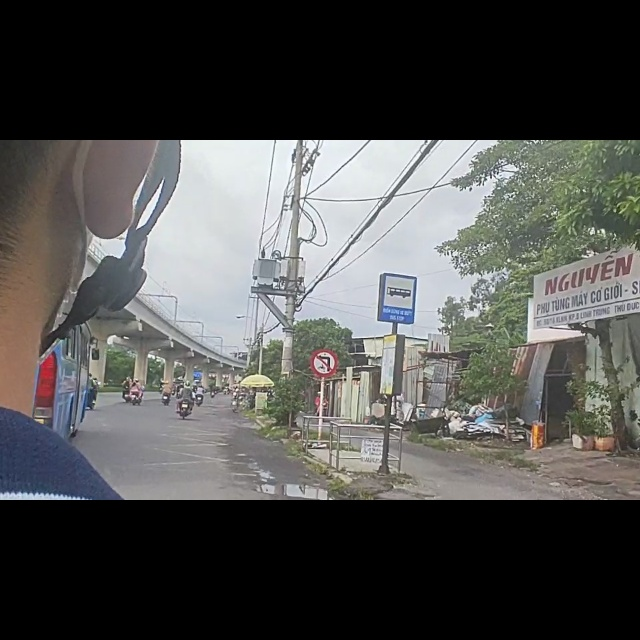bien_cam: (377, 233, 416, 329), (311, 371, 339, 421)
